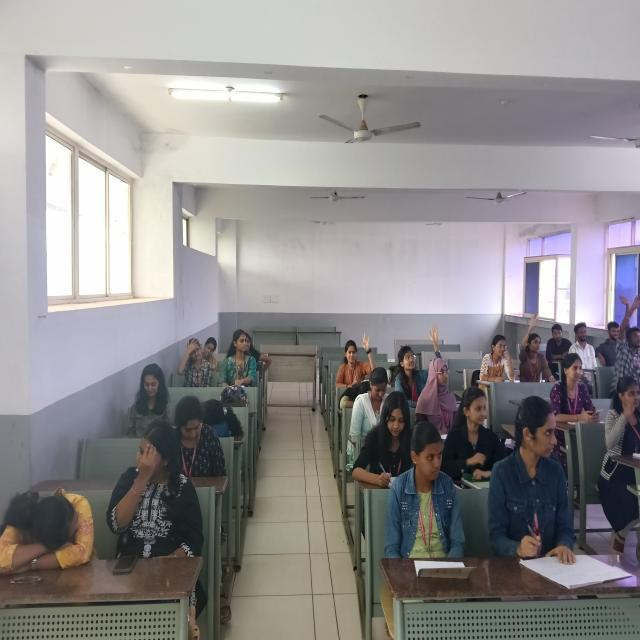Hand Rising: (389, 318, 446, 392), (333, 330, 377, 386), (521, 310, 549, 376)
Sleeping: (198, 395, 245, 443), (335, 375, 375, 412)
Using Phone: (164, 390, 233, 480), (550, 352, 603, 422)
Writing: (488, 394, 584, 576), (351, 390, 418, 491)
